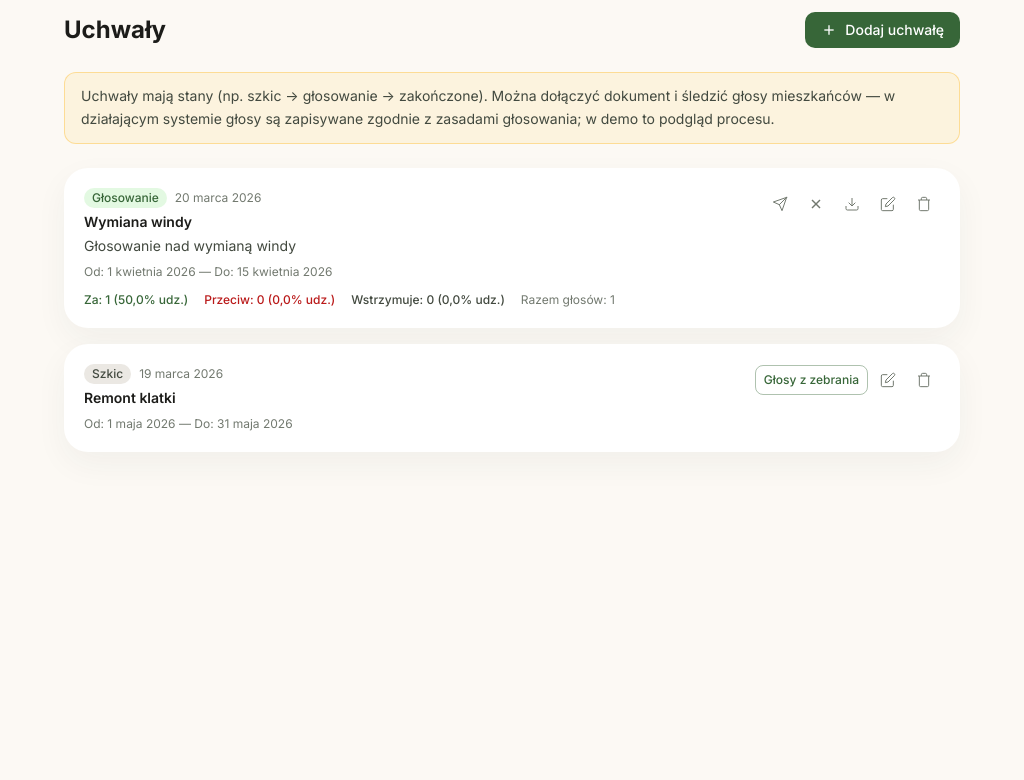
Test: AdminResolutionsPage › otwiera formularz dodawania
Expected: the heading "Wymiana windy" is shown, [84,212,192,230]
Click the button "Dodaj uchwałę" at (883, 30), box [805,12,960,48]
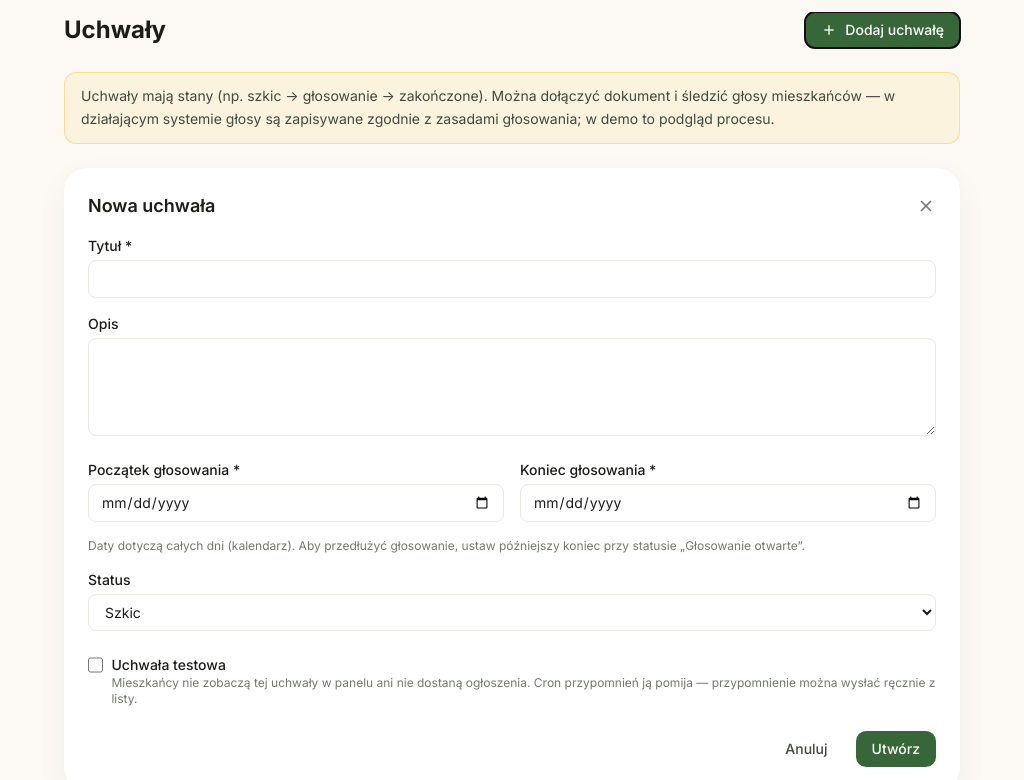
Expected: the heading "Nowa uchwała" is shown, [88,192,215,220]
Expected: the text "Tytuł *" is shown, [88,236,132,254]
